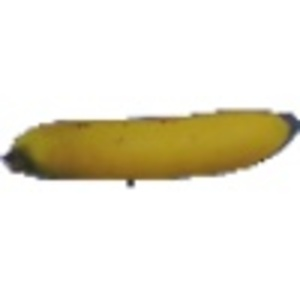banana: (1, 113, 299, 181)
